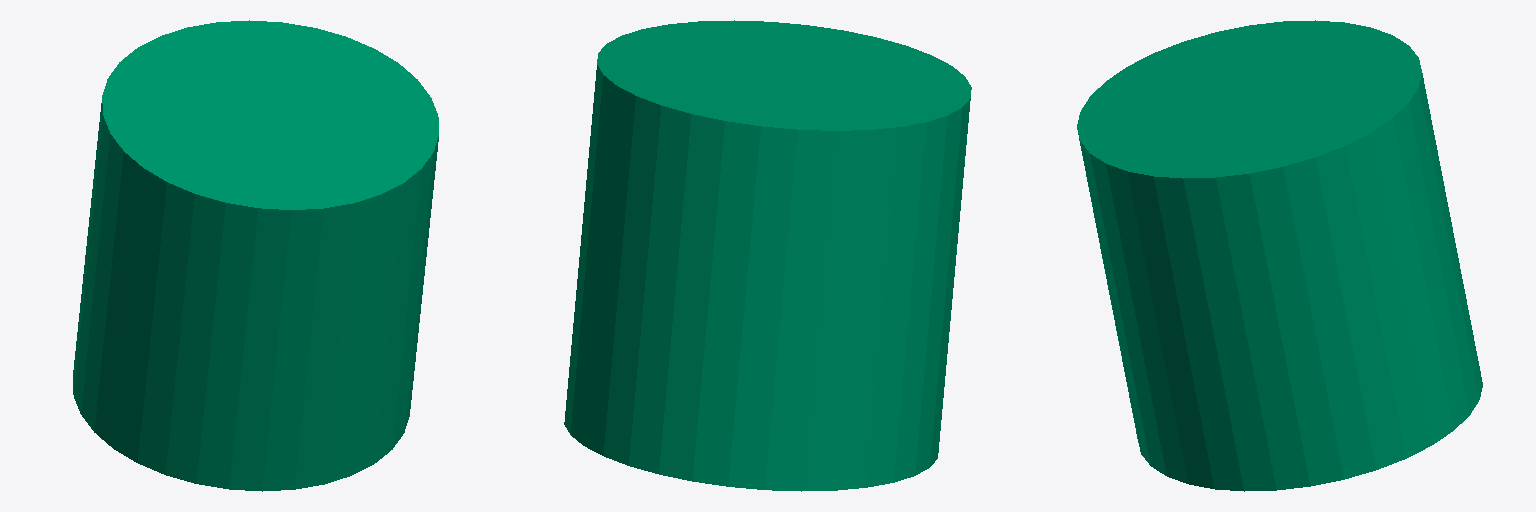
URDF robot description (grinding_machine):
<?xml version="1.0" ?>
<robot name="grinding_machine">
  <!-- Base link -->
  <link name="base"/>
  <link name="ee"/>

  <!-- Prismatic joint -->
  <joint name="prismatic_joint" type="prismatic">
    <parent link="base"/>
    <child link="ee"/>
    <origin xyz="0 0 0.5" rpy="0 0 0"/>
    <axis xyz="0 0 1"/>
    <limit lower="-1.0" upper="1.0" effort="10" velocity="1"/>
  </joint>

  <joint name="fixed_joint" type="fixed">
    <parent link="ee"/>
    <child link="spindle"/>
    <!-- <origin xyz="0 0 0.0" rpy="0.0872665 0 0"/>  -->
    <origin xyz="0 0 0.0" rpy="0.174533 0 0"/> <!-- 10 degrees -->
  </joint>


  <!-- Object attached to the robot, described by an .stl file -->
  <link name="spindle">
    <inertial>
      <mass value="1.0"/>
      <inertia ixx="0.1" ixy="0.0" ixz="0.0" iyy="0.1" iyz="0.0" izz="0.1"/>
    </inertial>
    <visual>
      <geometry>
        <cylinder length="0.02" radius="0.01"/>
      </geometry>
    </visual>
    <!-- <collision>
      <geometry>
        <cylinder length="0.02" radius="0.01"/>
      </geometry>
    </collision> -->
  </link>
  <transmission name="prismatic_joint_trans">
    <type>transmission_interface/SimpleTransmission</type>
    <joint name="prismatic_joint">
      <hardwareInterface>EffortJointInterface</hardwareInterface>
    </joint>
    <actuator name="prismatic_actuator">
      <hardwareInterface>EffortJointInterface</hardwareInterface>
      <mechanicalReduction>1</mechanicalReduction>
    </actuator>
  </transmission>
</robot>

--- What the picture shows (computed from the rendered views, not written in the file) ---
Views: 3 orthographic renders of the robot side by side, from view 1: azimuth 30°, elevation 25°; view 2: azimuth 150°, elevation 25°; view 3: azimuth 270°, elevation 25°.
Model grinding_machine with 3 links and 2 joints (1 prismatic, 1 fixed), rooted at base, posed every joint at zero.
Visible links, largest first — view 1: spindle; view 2: spindle; view 3: spindle.
Link boxes in pixels (left/top/right/bottom): spindle: left=73, top=20, right=438, bottom=491; spindle: left=564, top=20, right=971, bottom=491; spindle: left=1077, top=20, right=1482, bottom=491.
Size in the robot's own frame: 0.02 by 0.0232 by 0.0232 metres.
Geometry: primitives only (box / cylinder / sphere), no mesh files.